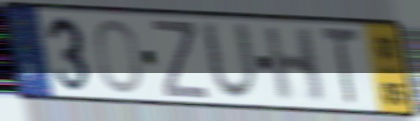3: (45, 12, 99, 96)
H: (262, 25, 327, 105)
O: (93, 17, 145, 96)
T: (319, 25, 362, 109)
U: (198, 17, 262, 105)
Z: (149, 17, 211, 101)
